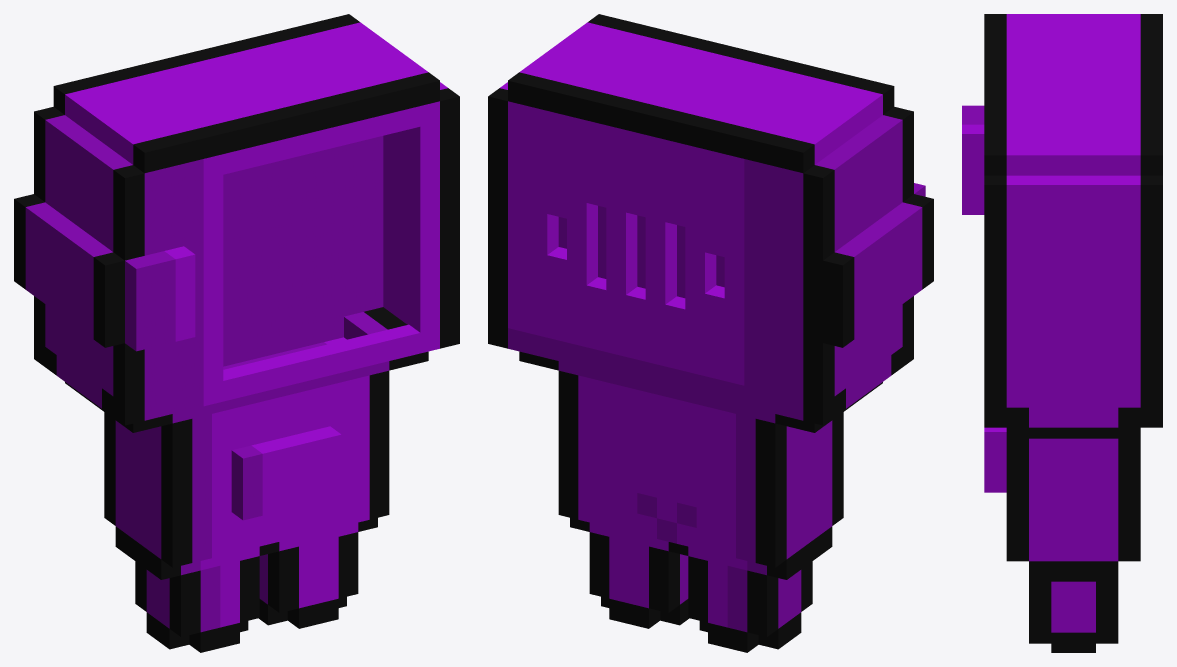
Rendered from body_purple.glb.
3 views of the same model, side by side, from view 1: azimuth 30°, elevation 25°; view 2: azimuth 150°, elevation 25°; view 3: azimuth 270°, elevation 25° (orthographic).
Parts seen in each view (by area): view 1: bb0 body; view 2: bb0 body; view 3: bb0 body.
Boxes of the visible parts, x1,y1,x2,y2 form: bb0 body: (14,14,459,652); bb0 body: (488,14,933,652); bb0 body: (962,14,1162,652).
Size of the model in its own units: 18 by 26 by 9.
